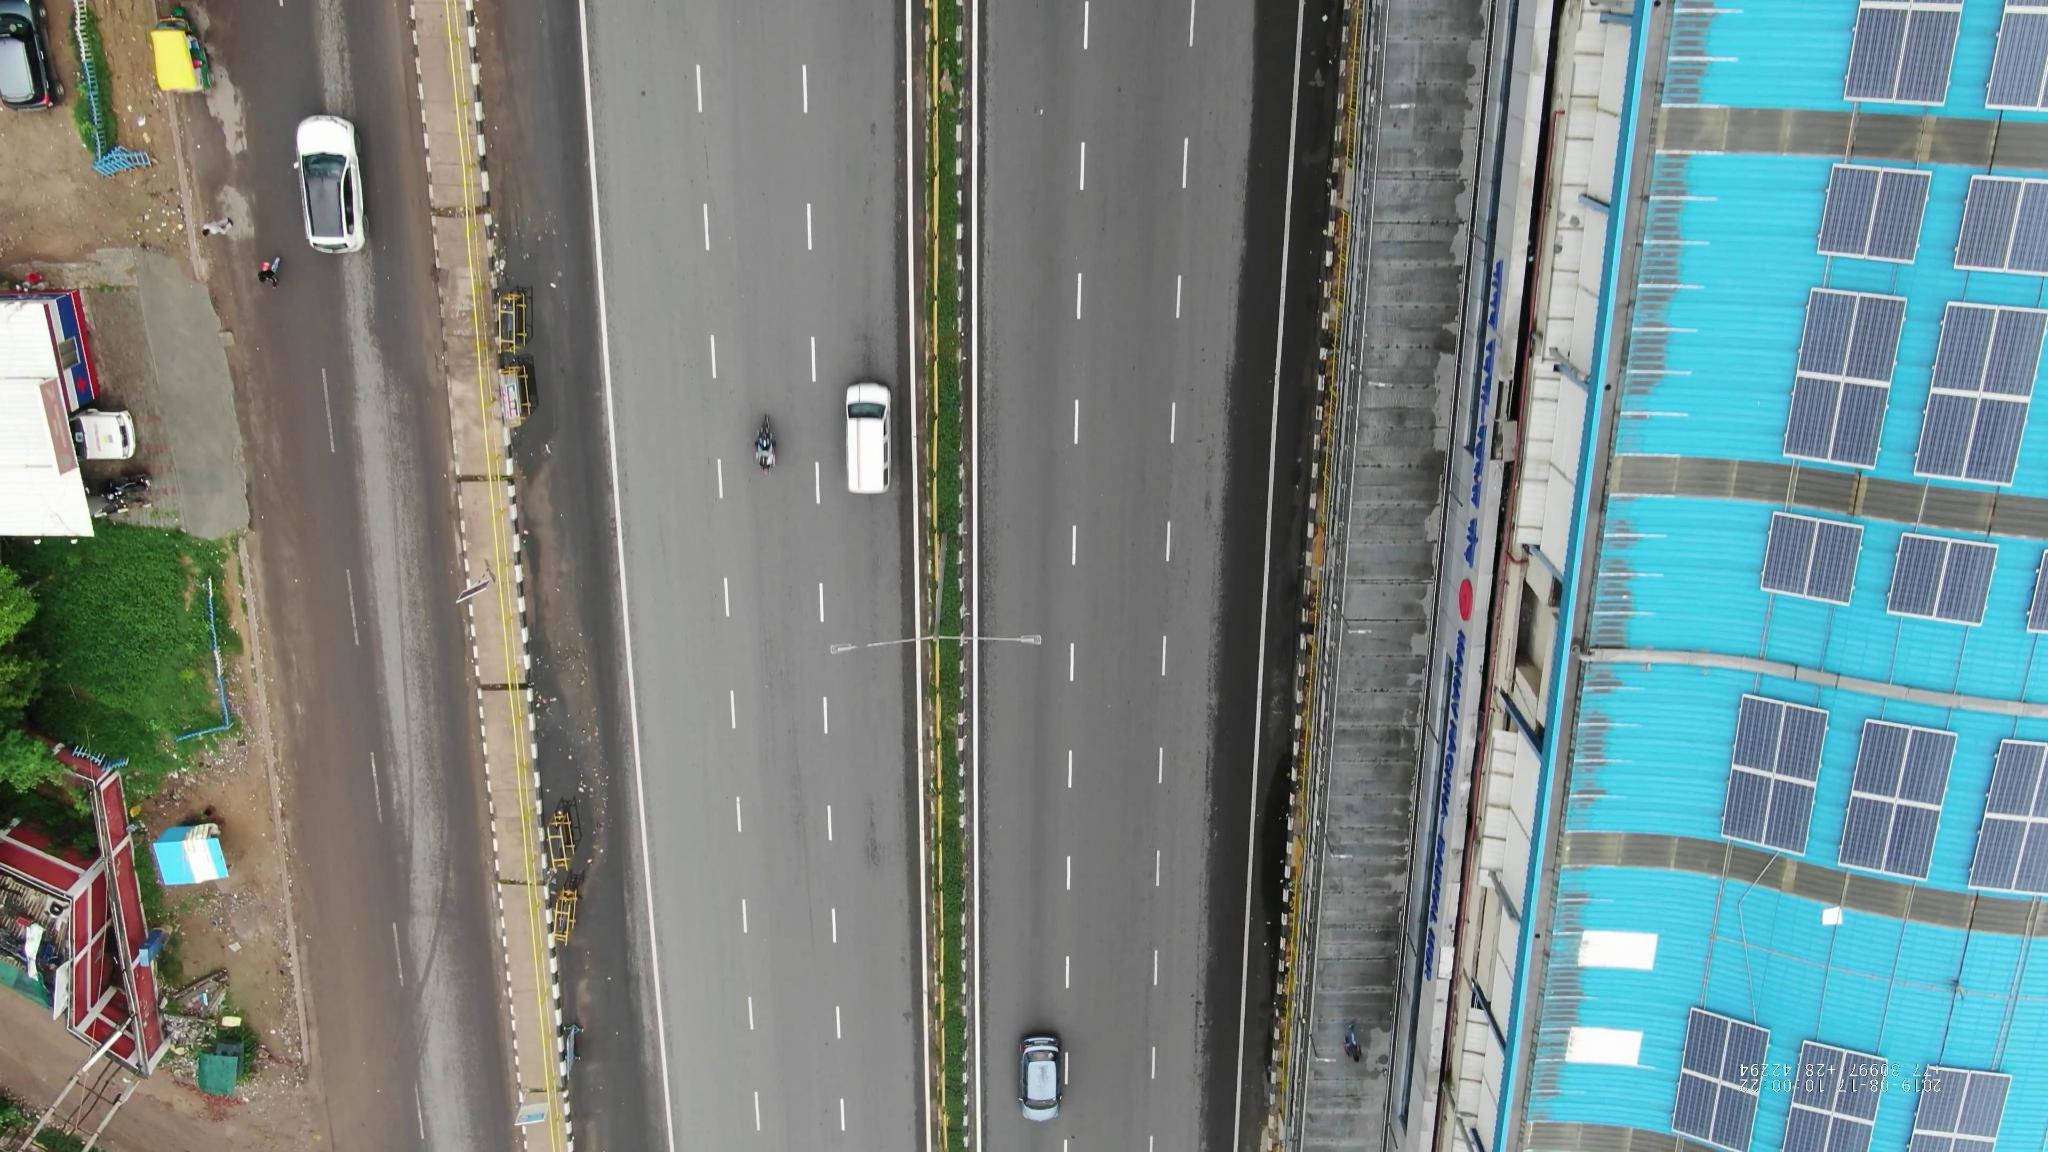Muddy_road: (291, 805, 399, 1099), (255, 537, 360, 767), (481, 7, 532, 210)
Waterlogging: (527, 650, 610, 869), (502, 273, 563, 453), (1256, 761, 1295, 951)
